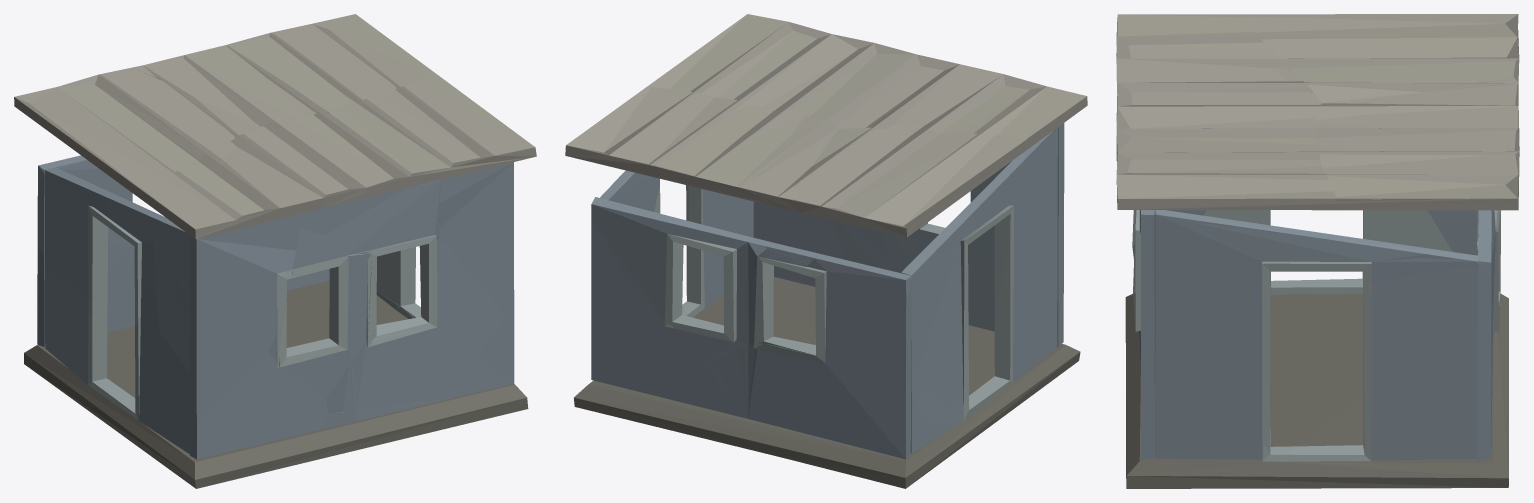
The model's file is Сabin1.2.fbx.
3 views of the same model, side by side, from view 1: azimuth 30°, elevation 25°; view 2: azimuth 150°, elevation 25°; view 3: azimuth 270°, elevation 25° (orthographic). The views are drawn at different scales.
Parts seen in each view (by area): view 1: Roof, Panel1, Foundation, Panel1_cell.002, Roof_cell.006, Roof_cell.007, Panel1_cell.007, Panel1_cell.001, Panel1_cell.005, Panel4, Panel4_cell.006, Roof_cell.005 (+17 smaller); view 2: Roof, Panel2, Foundation, Panel4, Roof_cell.006, Roof_cell.007, Panel2_cell.004, Panel2_cell.007, Panel1, Panel3, Panel4_cell.007, Roof_cell.005 (+19 smaller); view 3: Roof, Panel3, Foundation, Panel3_cell.001, Roof_cell.006, Roof_cell.007, Roof_cell.001, Panel4, Panel3_cell.005, Roof_cell.005, Panel1, Roof_cell (+8 smaller).
Part boxes in pixels (<box>): Roof: <box>14,14,536,239</box>; Panel1: <box>190,162,514,458</box>; Foundation: <box>24,281,528,488</box>; Panel1_cell.002: <box>190,213,302,421</box>; Roof_cell.006: <box>139,24,433,126</box>; Roof_cell.007: <box>14,72,259,186</box>; Panel1_cell.007: <box>269,180,440,367</box>; Panel1_cell.001: <box>326,242,505,413</box>; Panel1_cell.005: <box>190,356,327,459</box>; Panel4: <box>50,186,189,413</box>; Panel4_cell.006: <box>44,167,112,302</box>; Roof_cell.005: <box>165,118,365,207</box>; Roof: <box>565,14,1087,237</box>; Panel2: <box>591,197,911,459</box>; Foundation: <box>574,277,1080,488</box>; Panel4: <box>901,150,1057,453</box>; Roof_cell.006: <box>565,87,837,202</box>; Roof_cell.007: <box>796,127,1026,236</box>; Panel2_cell.004: <box>591,204,773,362</box>; Panel2_cell.007: <box>591,218,654,389</box>; Panel1: <box>753,129,1064,347</box>; Panel3: <box>600,170,753,317</box>; Panel4_cell.007: <box>989,265,1057,400</box>; Roof_cell.005: <box>819,55,1001,133</box>; Roof: <box>1116,14,1519,210</box>; Panel3: <box>1155,210,1477,461</box>; Foundation: <box>1125,294,1508,488</box>; Panel3_cell.001: <box>1280,249,1477,461</box>; Roof_cell.006: <box>1313,80,1518,210</box>; Roof_cell.007: <box>1247,14,1518,102</box>; Roof_cell.001: <box>1116,138,1337,210</box>; Panel4: <box>1166,210,1477,294</box>; Panel3_cell.005: <box>1158,214,1430,324</box>; Roof_cell.005: <box>1117,33,1321,121</box>; Panel1: <box>1132,210,1154,458</box>; Roof_cell: <box>1131,127,1320,166</box>.
Bounding box in the file's own units: 648 × 483 × 598.
